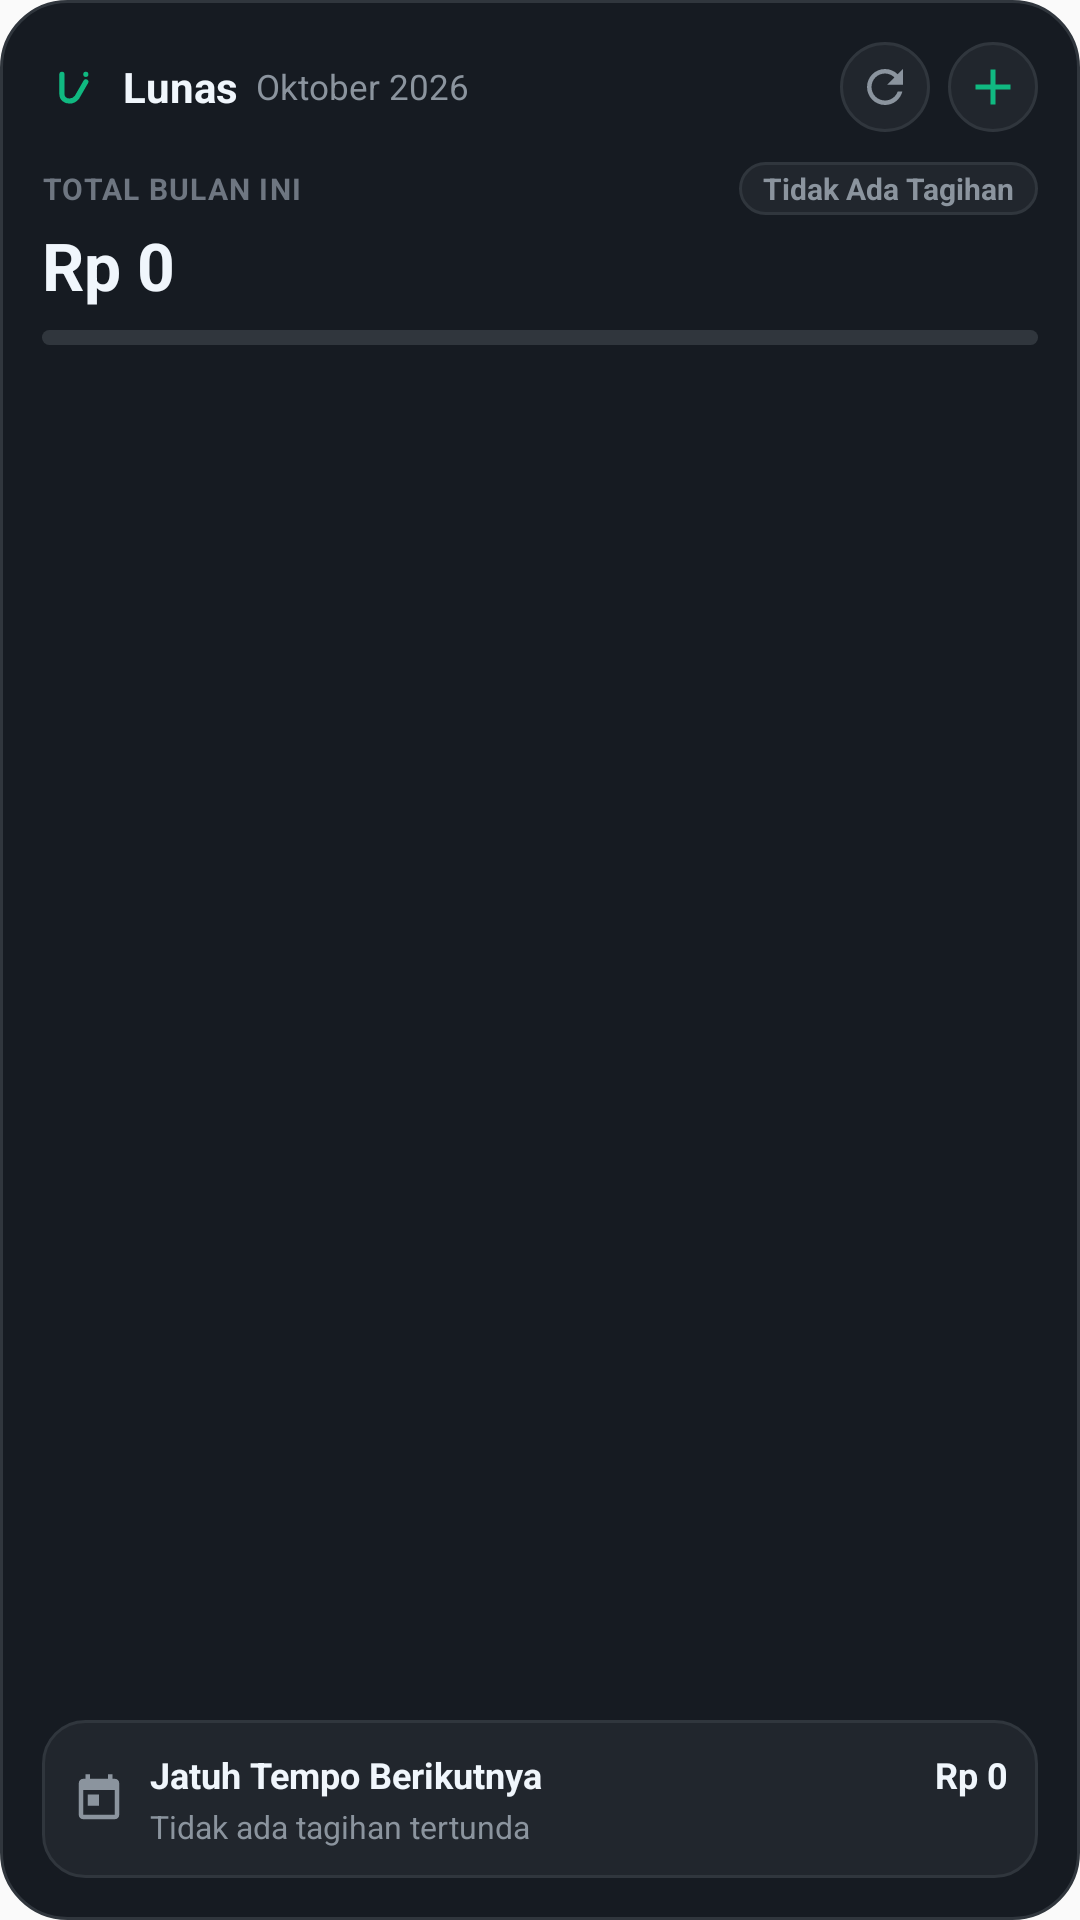

Screen size 1080×1920. Icon name, then its center in pixels as [x,y]:
Segarkan Widget: [885,87]
Tambah Tagihan Baru: [993,87]
